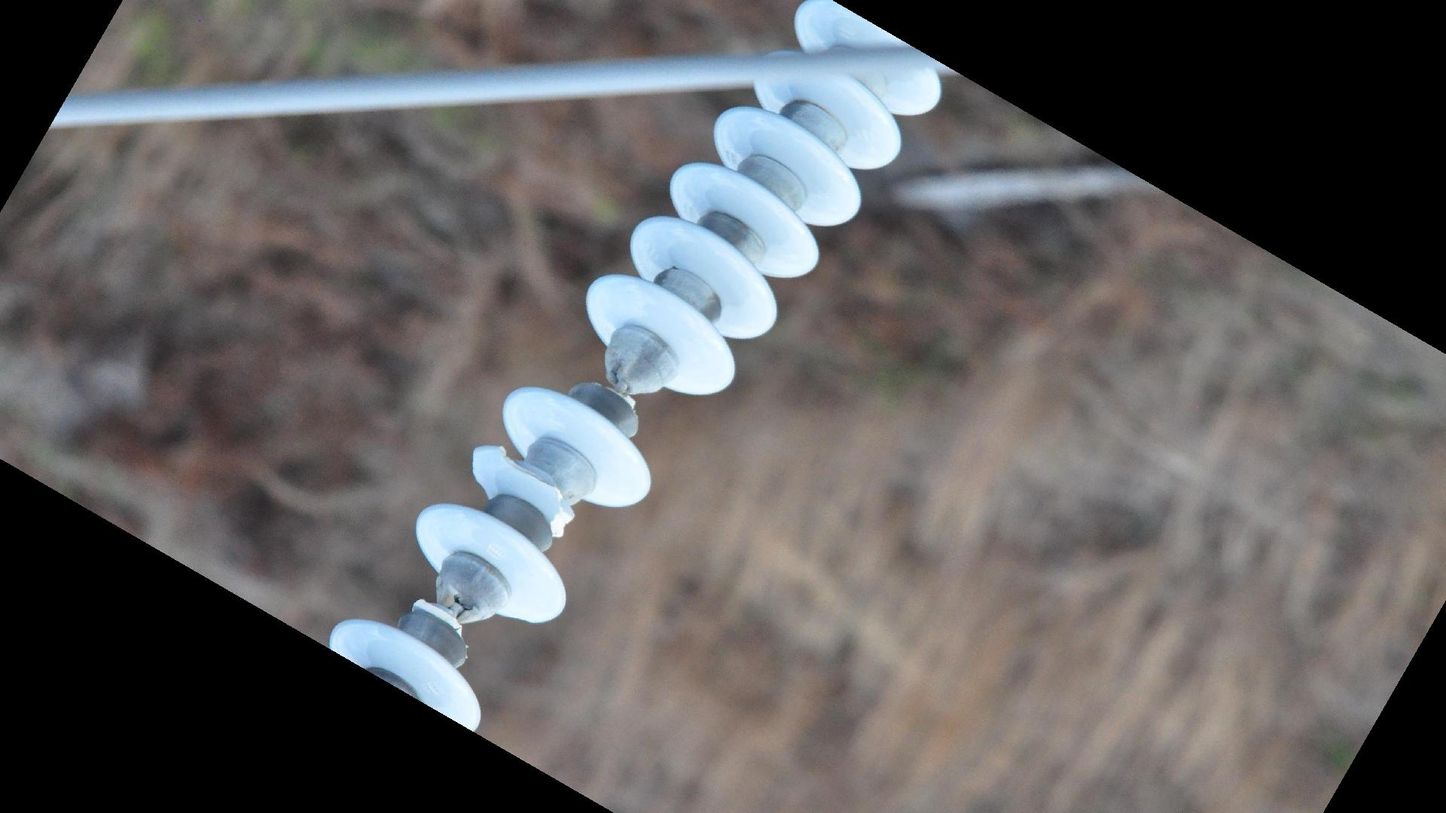insulator: (578, 1, 952, 408), (409, 378, 657, 635), (318, 610, 498, 739)
insulator_breakage: (458, 436, 580, 540)
